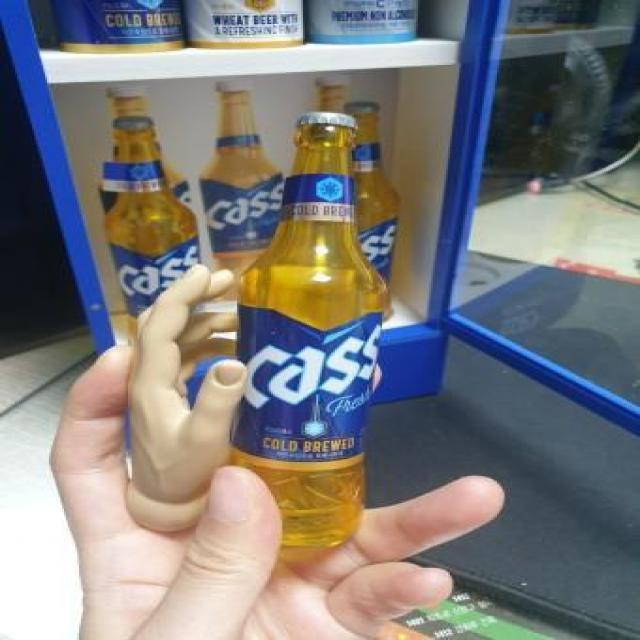beer-bottle: (235, 102, 397, 566)
